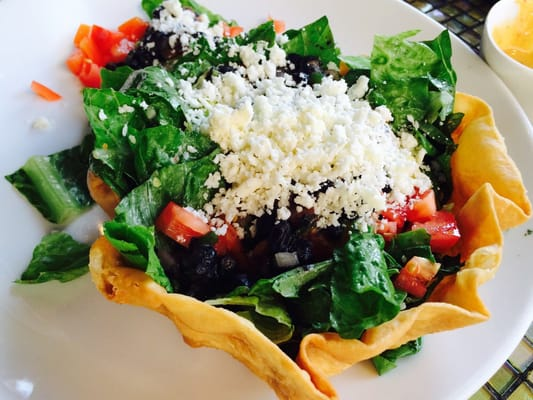sushi: (482, 0, 533, 129)
